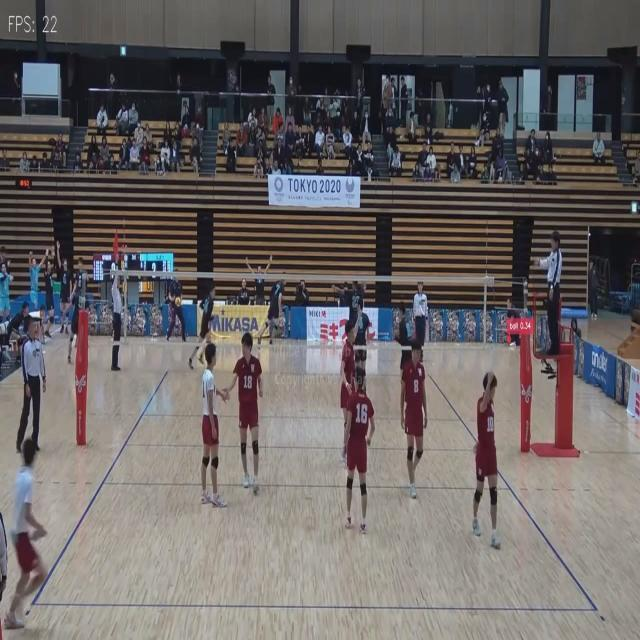volleyball: (175, 296, 182, 306)
